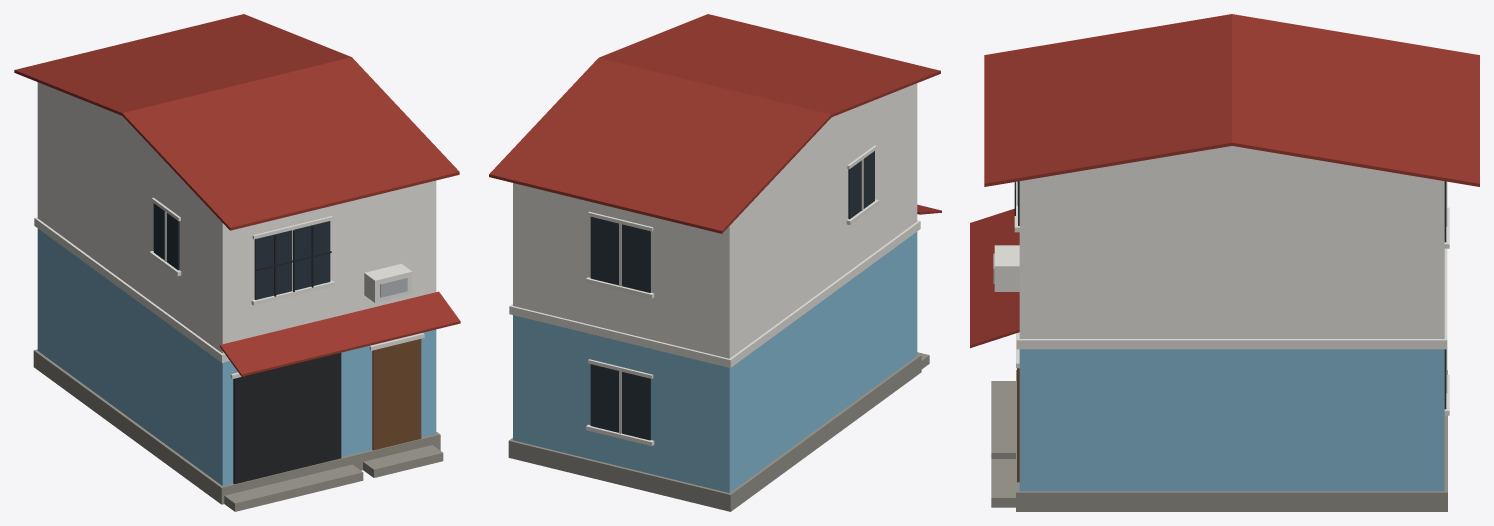
The model's file is BAY_F_TwoStorey_A.glb.
3 views of the same model, side by side, from view 1: azimuth 30°, elevation 25°; view 2: azimuth 150°, elevation 25°; view 3: azimuth 270°, elevation 25° (orthographic). The views are drawn at different scales.
Parts seen in each view (by area): view 1: BAY_F_TwoStorey_A; view 2: BAY_F_TwoStorey_A; view 3: BAY_F_TwoStorey_A.
Part boxes in pixels (x1,y1,x2,y2): BAY_F_TwoStorey_A: (14, 14, 460, 511); BAY_F_TwoStorey_A: (489, 14, 941, 511); BAY_F_TwoStorey_A: (970, 14, 1479, 511).
Size of the model in its own units: 4.3 by 5.8 by 7.2.
Materials: 1 (1 with a texture image).
